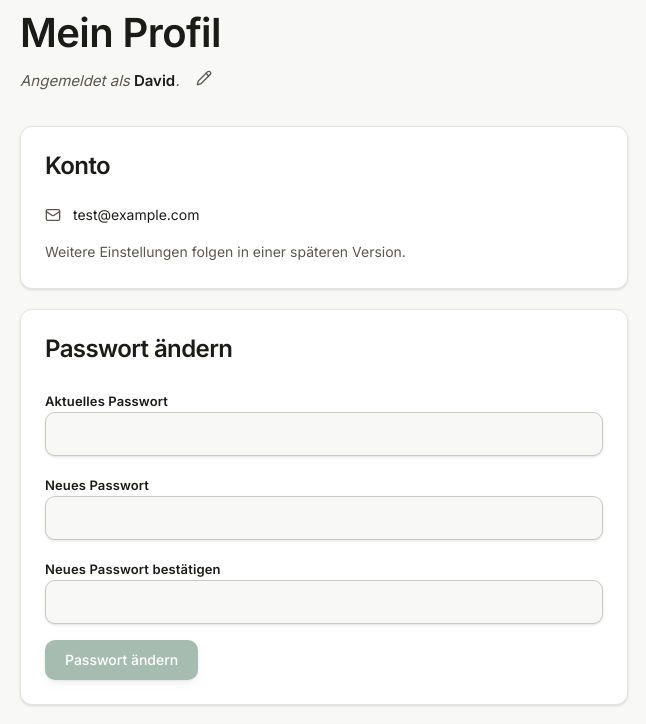
it: <ProfilePage /> › displayname inline-edit › shows an inline error on server 400
Click the button named "anzeigenamen bearbeiten".
click(204, 78)  # box [188,62,220,94]
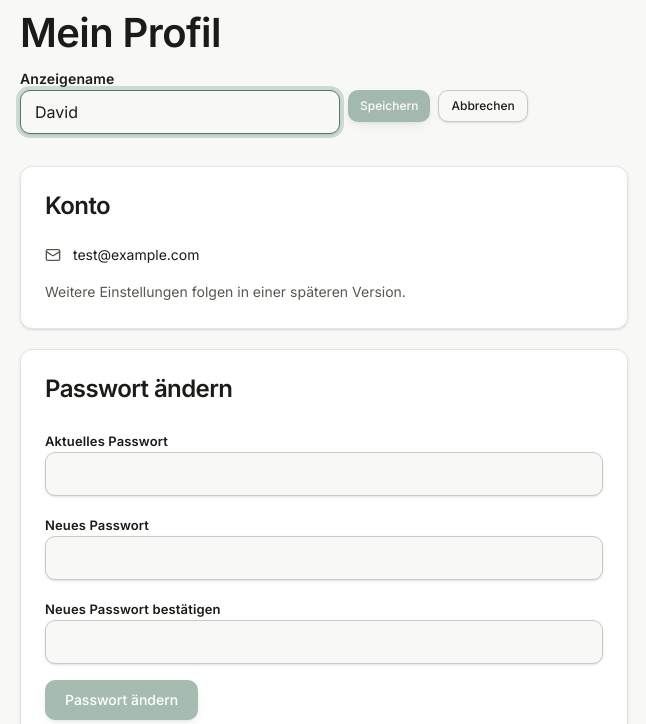
Replace the text in the field labelled "Anzeigename" with "Gueltig" at (180, 112), box [20,90,340,134]
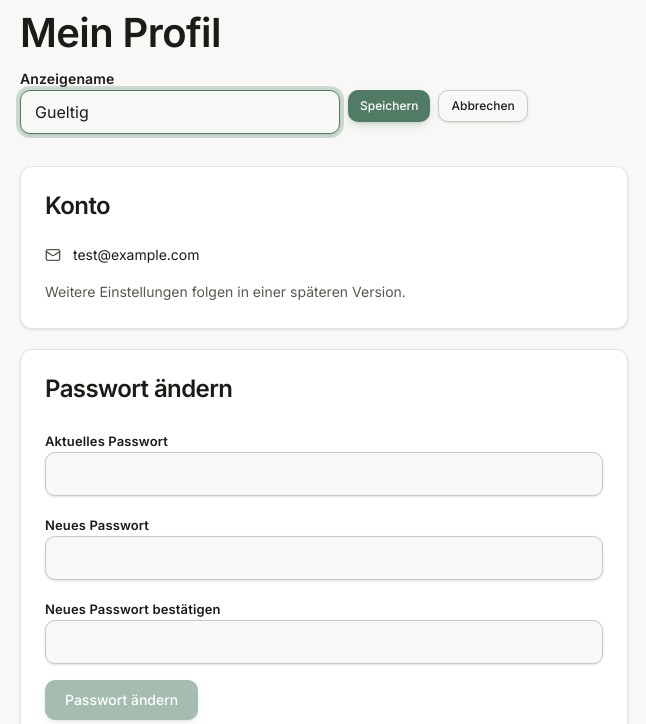
Click the button "Speichern".
click(389, 106)  # box [348,90,430,122]
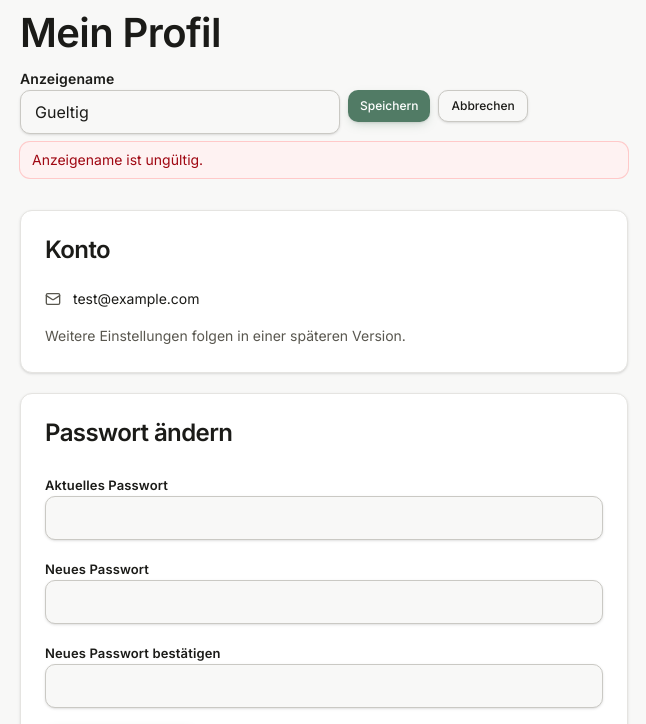
Now the message shows "Anzeigename ist ungültig", box [32,151,203,168]
